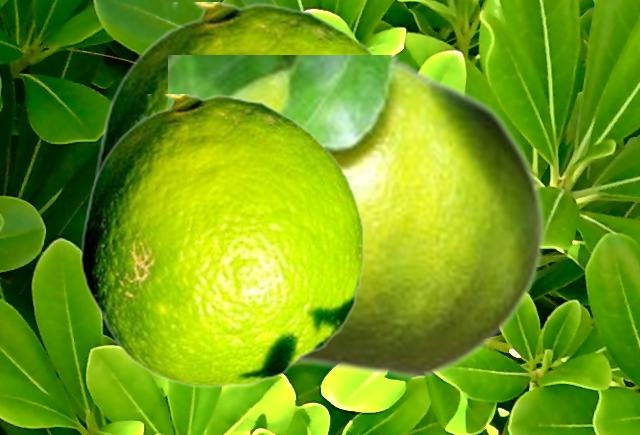dalandan: (168, 55, 546, 379), (80, 94, 364, 387), (93, 2, 380, 176)
